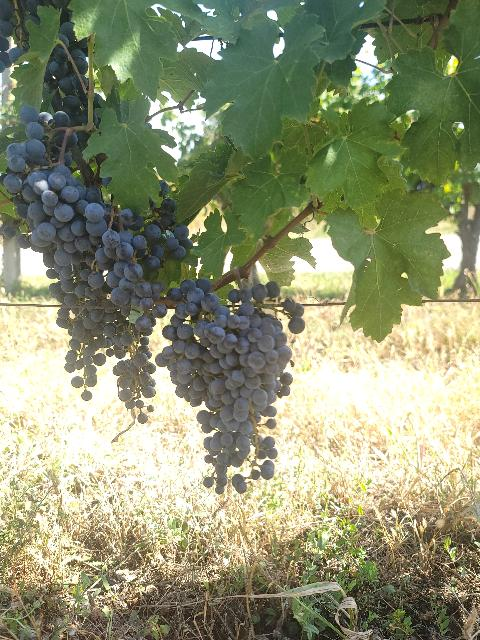grapes: (2, 106, 108, 269), (81, 221, 192, 334), (205, 281, 292, 396), (155, 278, 220, 406), (112, 319, 155, 426)
